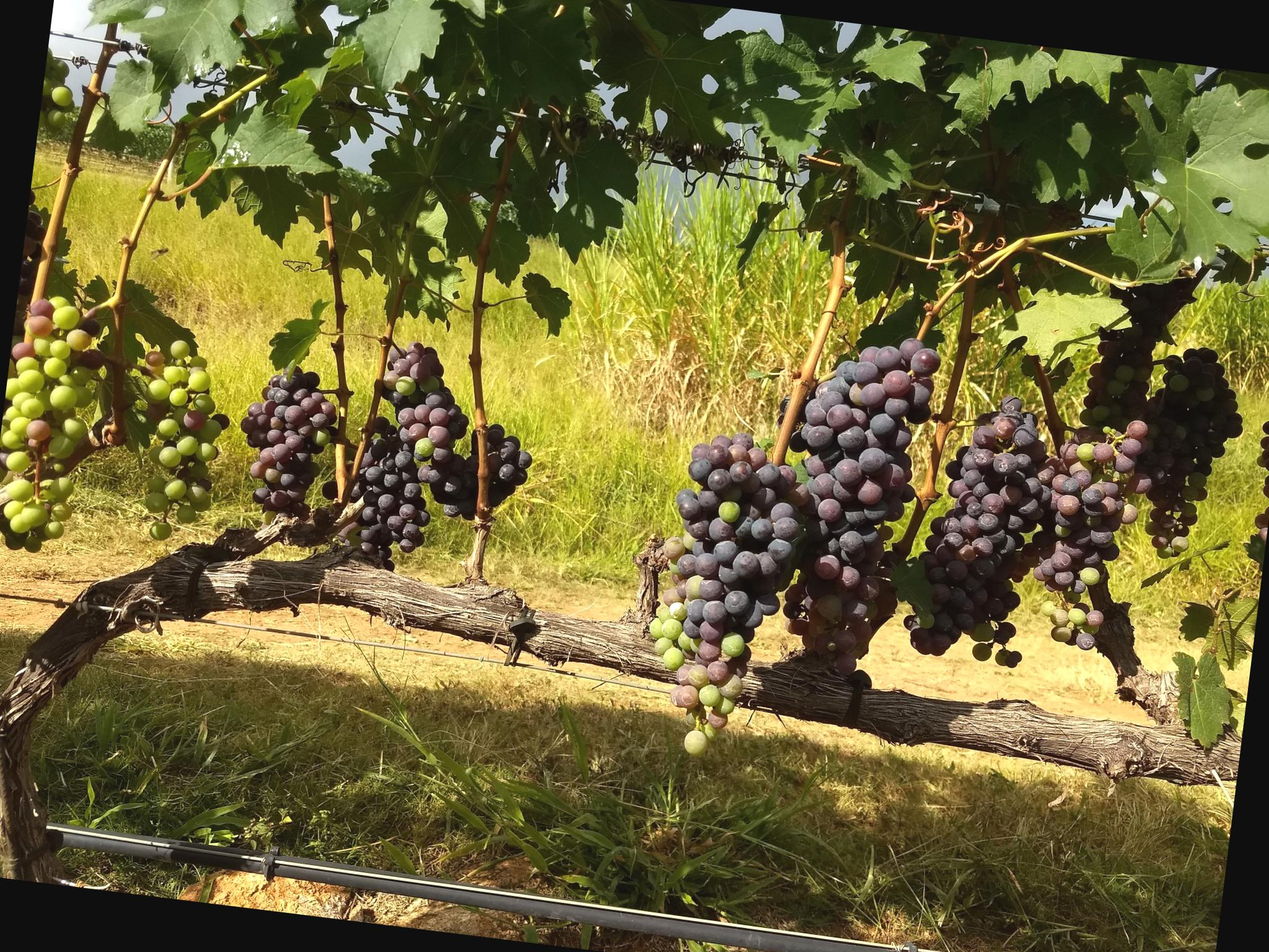Grape Ripe: (761, 324, 942, 669), (902, 387, 1065, 670), (230, 361, 334, 531), (342, 415, 441, 572), (426, 417, 533, 527)
Grape Unripe: (0, 291, 110, 558), (121, 336, 238, 547)
